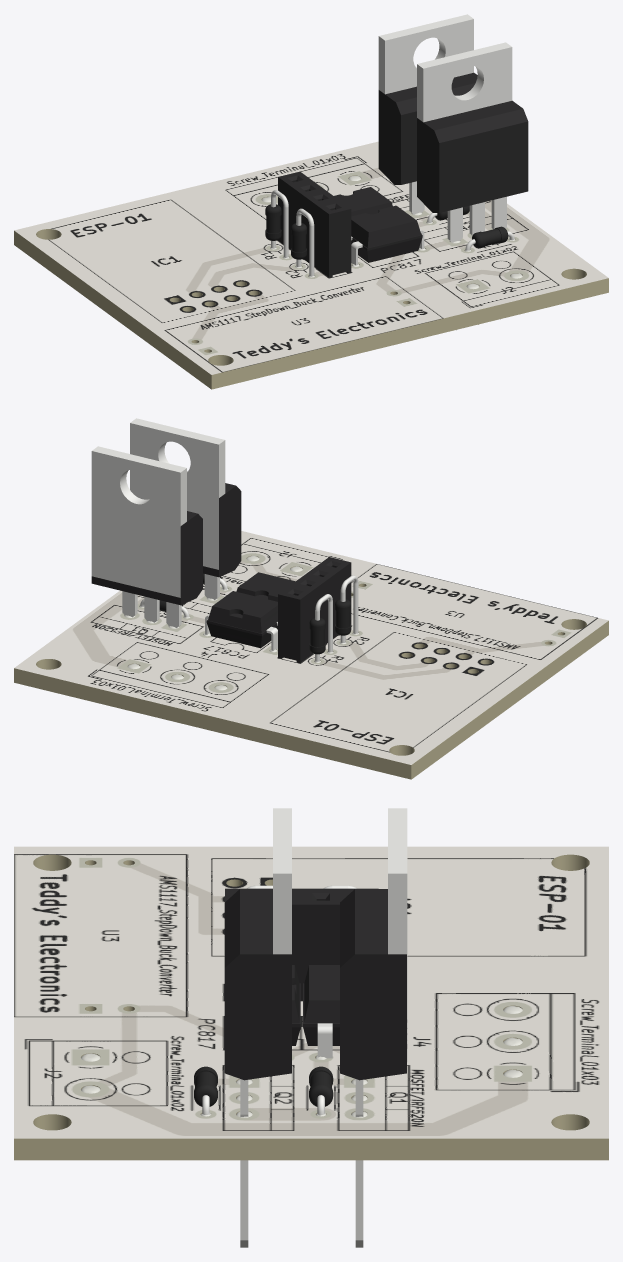
The model's file is 2Lights_V1.glb.
The picture shows the model from 3 angles, top to bottom: view 1: azimuth 30°, elevation 25°; view 2: azimuth 150°, elevation 25°; view 3: azimuth 270°, elevation 25°; orthographic projection. The views are drawn at different scales.
Parts seen in each view (by area): view 1: PCB_2Lights_V1, TO-220-3_Vertical.001, TO-220-3_Vertical, PinSocket_1x02_P2.54mm_Vertical.001, DIP-4_W7.62mm.001, PinSocket_1x02_P2.54mm_Vertical, R_Axial_DIN0204_L3.6mm_D1.6mm_P2.54mm_Vertical.001, R_Axial_DIN0204_L3.6mm_D1.6mm_P2.54mm_Vertical, DIP-4_W7.62mm, R_Axial_DIN0204_L3.6mm_D1.6mm_P5.08mm_Horizontal; view 2: PCB_2Lights_V1, TO-220-3_Vertical, TO-220-3_Vertical.001, DIP-4_W7.62mm, PinSocket_1x02_P2.54mm_Vertical, PinSocket_1x02_P2.54mm_Vertical.001, R_Axial_DIN0204_L3.6mm_D1.6mm_P2.54mm_Vertical.001, R_Axial_DIN0204_L3.6mm_D1.6mm_P2.54mm_Vertical, DIP-4_W7.62mm.001; view 3: PCB_2Lights_V1, TO-220-3_Vertical, TO-220-3_Vertical.001, PinSocket_1x02_P2.54mm_Vertical, DIP-4_W7.62mm, PinSocket_1x02_P2.54mm_Vertical.001, R_Axial_DIN0204_L3.6mm_D1.6mm_P5.08mm_Horizontal.001, R_Axial_DIN0204_L3.6mm_D1.6mm_P5.08mm_Horizontal, DIP-4_W7.62mm.001.
Part boxes in pixels (<box>): PCB_2Lights_V1: <box>14,141,608,389</box>; TO-220-3_Vertical.001: <box>417,42,528,330</box>; TO-220-3_Vertical: <box>378,14,477,214</box>; PinSocket_1x02_P2.54mm_Vertical.001: <box>303,190,351,277</box>; DIP-4_W7.62mm.001: <box>351,205,424,265</box>; PinSocket_1x02_P2.54mm_Vertical: <box>278,171,325,249</box>; R_Axial_DIN0204_L3.6mm_D1.6mm_P2.54mm_Vertical.001: <box>291,208,314,276</box>; R_Axial_DIN0204_L3.6mm_D1.6mm_P2.54mm_Vertical: <box>265,190,288,257</box>; DIP-4_W7.62mm: <box>334,187,392,216</box>; R_Axial_DIN0204_L3.6mm_D1.6mm_P5.08mm_Horizontal: <box>465,226,514,250</box>; PCB_2Lights_V1: <box>14,531,608,779</box>; TO-220-3_Vertical: <box>91,446,202,627</box>; TO-220-3_Vertical.001: <box>130,418,241,599</box>; DIP-4_W7.62mm: <box>205,591,277,650</box>; PinSocket_1x02_P2.54mm_Vertical: <box>278,575,325,663</box>; PinSocket_1x02_P2.54mm_Vertical.001: <box>304,557,351,644</box>; R_Axial_DIN0204_L3.6mm_D1.6mm_P2.54mm_Vertical.001: <box>335,575,358,642</box>; R_Axial_DIN0204_L3.6mm_D1.6mm_P2.54mm_Vertical: <box>309,594,332,661</box>; DIP-4_W7.62mm.001: <box>236,572,295,601</box>; PCB_2Lights_V1: <box>14,846,608,1160</box>; TO-220-3_Vertical: <box>340,808,407,1247</box>; TO-220-3_Vertical.001: <box>224,808,291,1247</box>; PinSocket_1x02_P2.54mm_Vertical: <box>302,888,378,1000</box>; DIP-4_W7.62mm: <box>303,965,339,1058</box>; PinSocket_1x02_P2.54mm_Vertical.001: <box>225,888,301,1000</box>; R_Axial_DIN0204_L3.6mm_D1.6mm_P5.08mm_Horizontal.001: <box>309,1066,333,1115</box>; R_Axial_DIN0204_L3.6mm_D1.6mm_P5.08mm_Horizontal: <box>194,1066,217,1114</box>; DIP-4_W7.62mm.001: <box>292,965,300,1045</box>.
Size of the model in its own units: 0.0457 by 0.0285 by 0.0394.
Materials: 8 (2 with a texture image).
